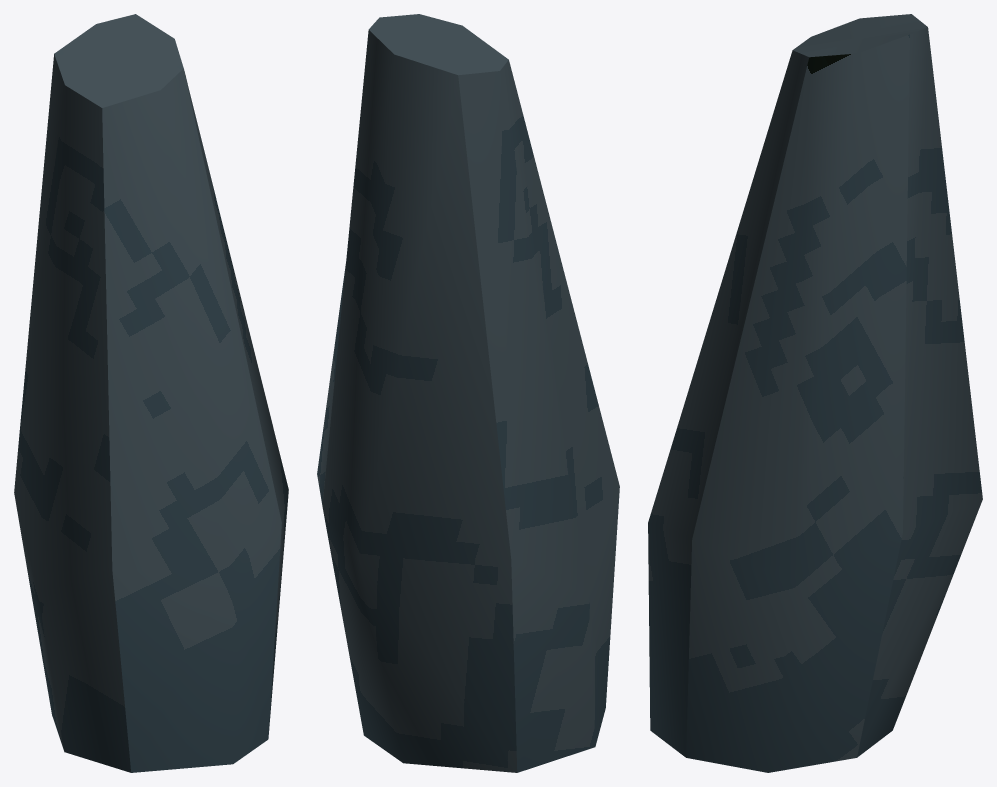
File: StoneRock_01.FBX
3 renders of one model, left to right at view 1: azimuth 30°, elevation 25°; view 2: azimuth 150°, elevation 25°; view 3: azimuth 270°, elevation 25°, orthographic. The views are drawn at different scales.
Parts seen in each view (by area): view 1: Box001; view 2: Box001; view 3: Box001.
Part boxes in pixels (x1,y1,x2,y2): Box001: (14, 14, 288, 772); Box001: (317, 14, 619, 772); Box001: (648, 14, 982, 772).
Bounding box in the file's own units: 12.69 × 32.23 × 13.81.
